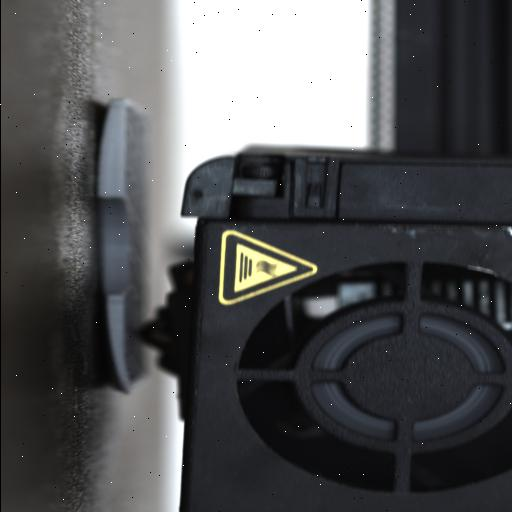warp: (91, 304, 131, 400)
